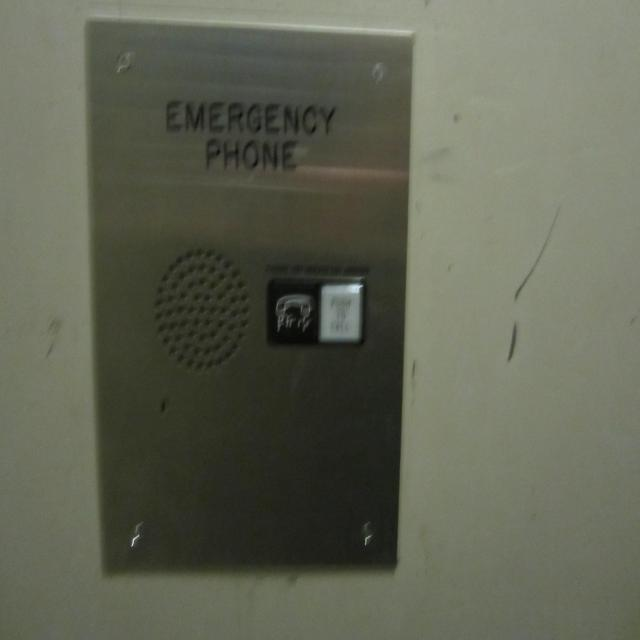call: (264, 274, 368, 349)
